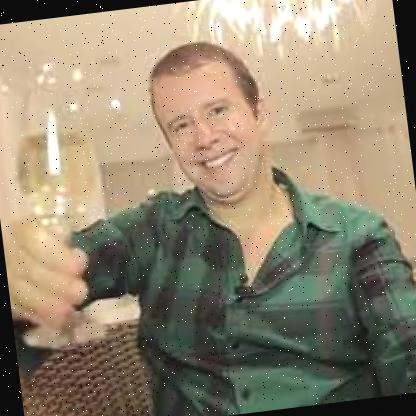sem_capacete: (136, 29, 284, 216)
sem_colete_refletivo: (75, 152, 415, 415)
